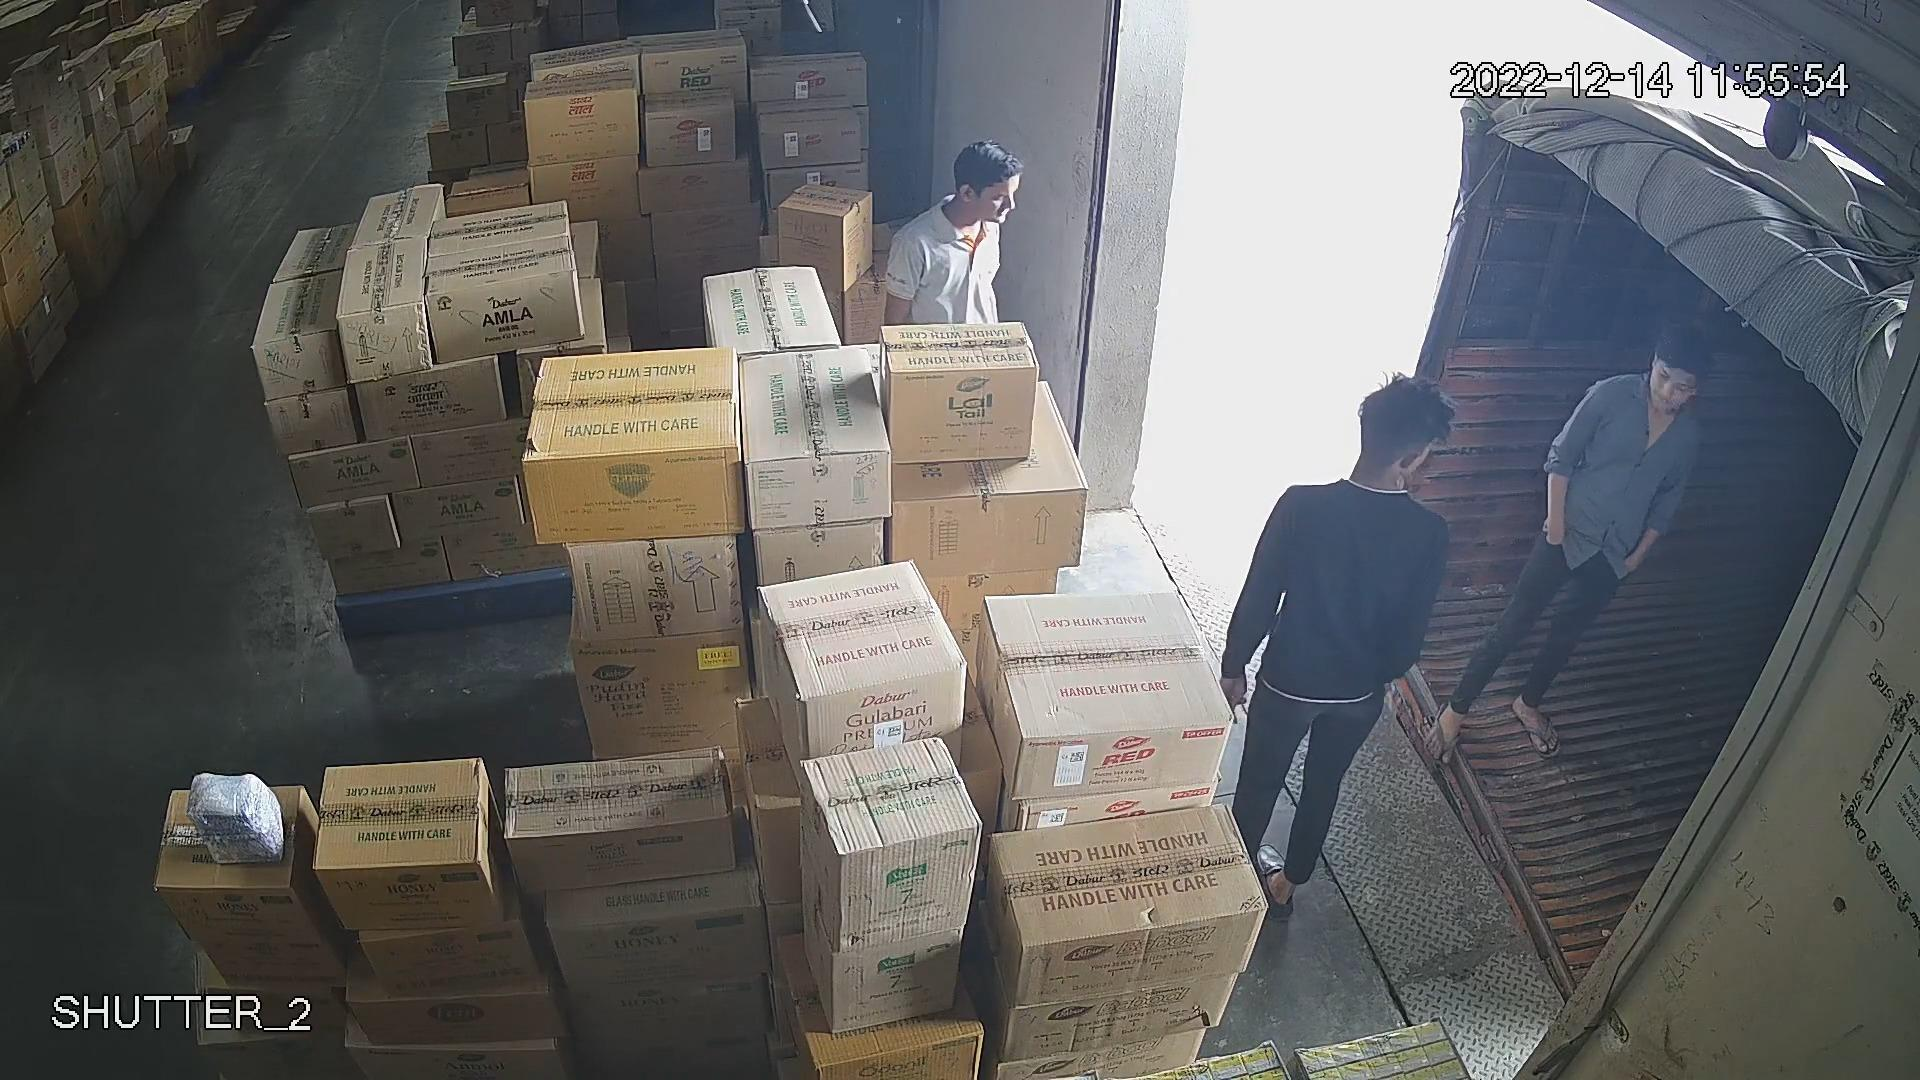-: (975, 587, 1236, 794), (985, 807, 1269, 994), (527, 343, 746, 538), (758, 560, 965, 757), (791, 740, 981, 945), (310, 757, 512, 922), (501, 756, 744, 887), (741, 349, 898, 525), (872, 320, 1034, 460), (699, 265, 845, 353), (769, 179, 880, 293), (522, 69, 641, 167), (753, 95, 864, 169), (642, 88, 740, 164)
